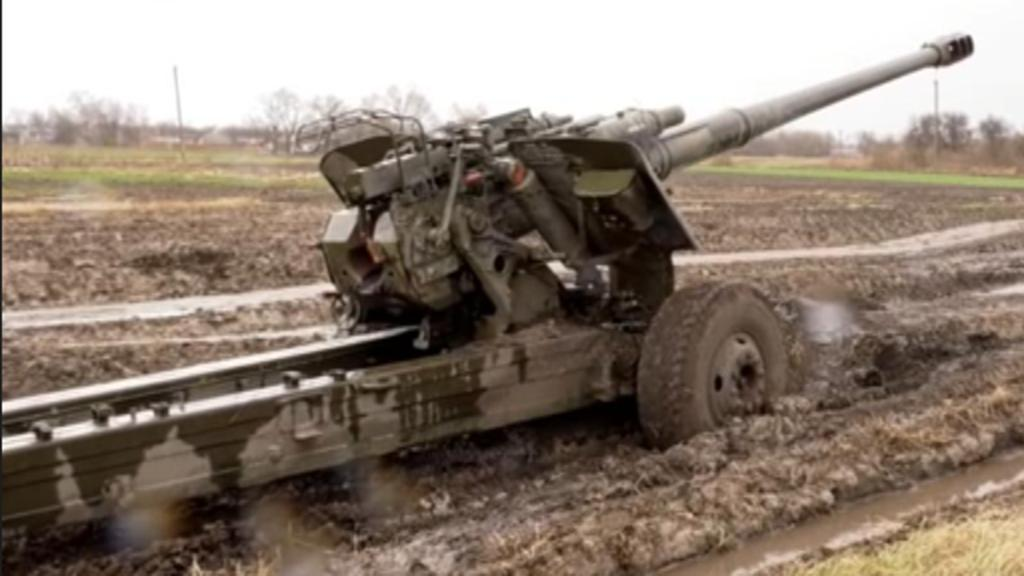ART: (0, 30, 978, 548)
